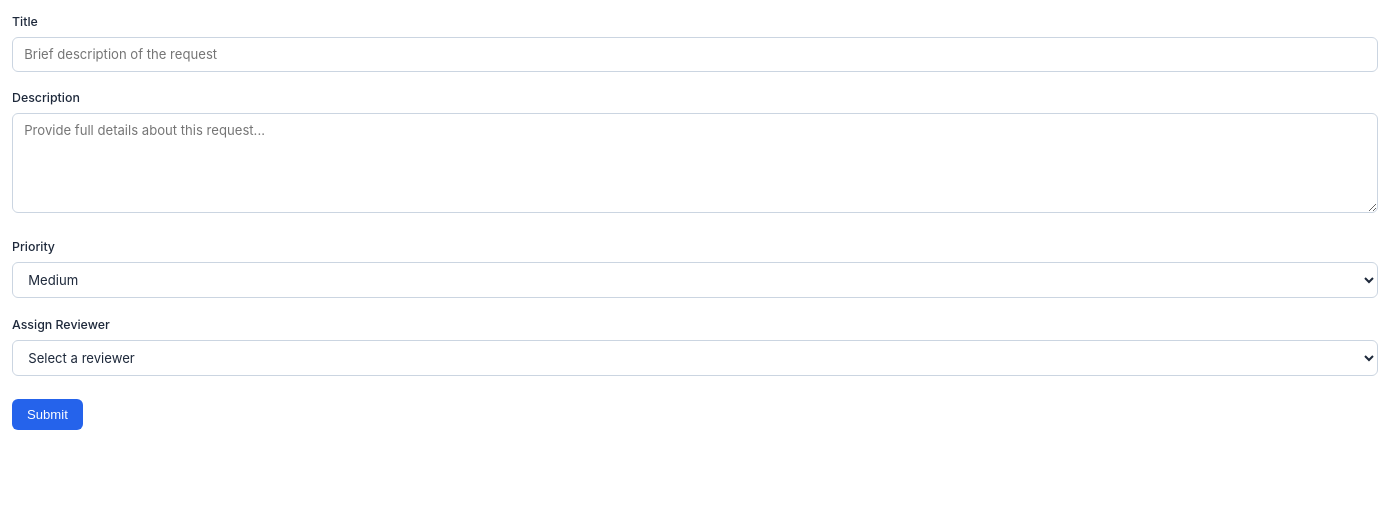
Scenario: RequestForm › shows an error message when submission fails
Type "Expense" into the field labelled "Title" at (695, 54), box [12, 37, 1378, 72]
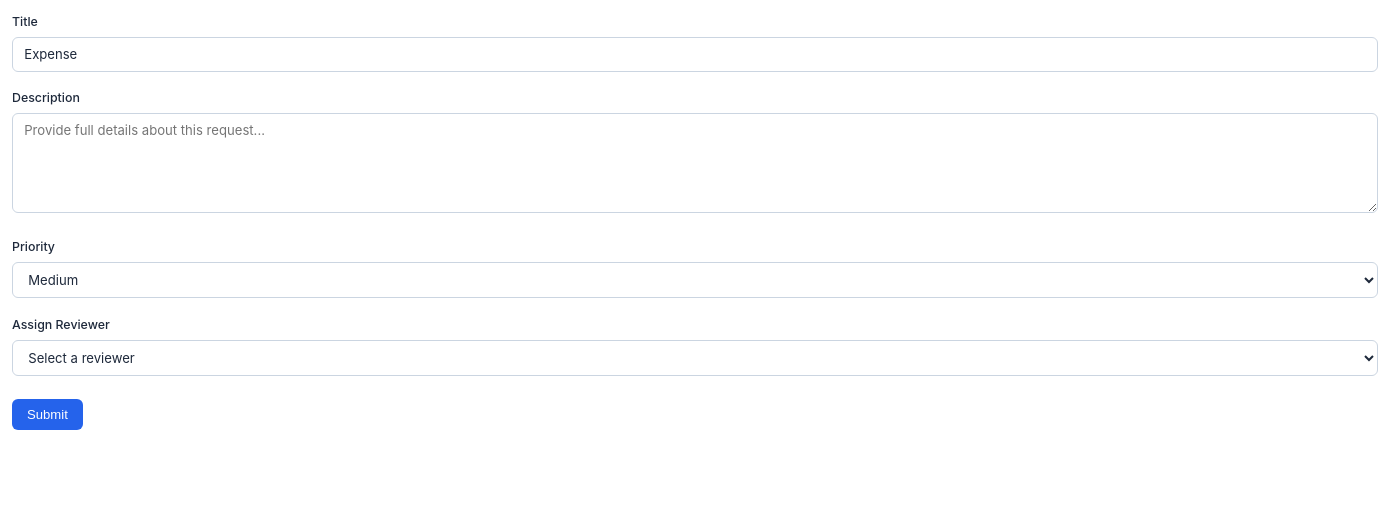
Type "Client dinner" into the text box labelled "Description" at (695, 163), box [12, 113, 1378, 213]
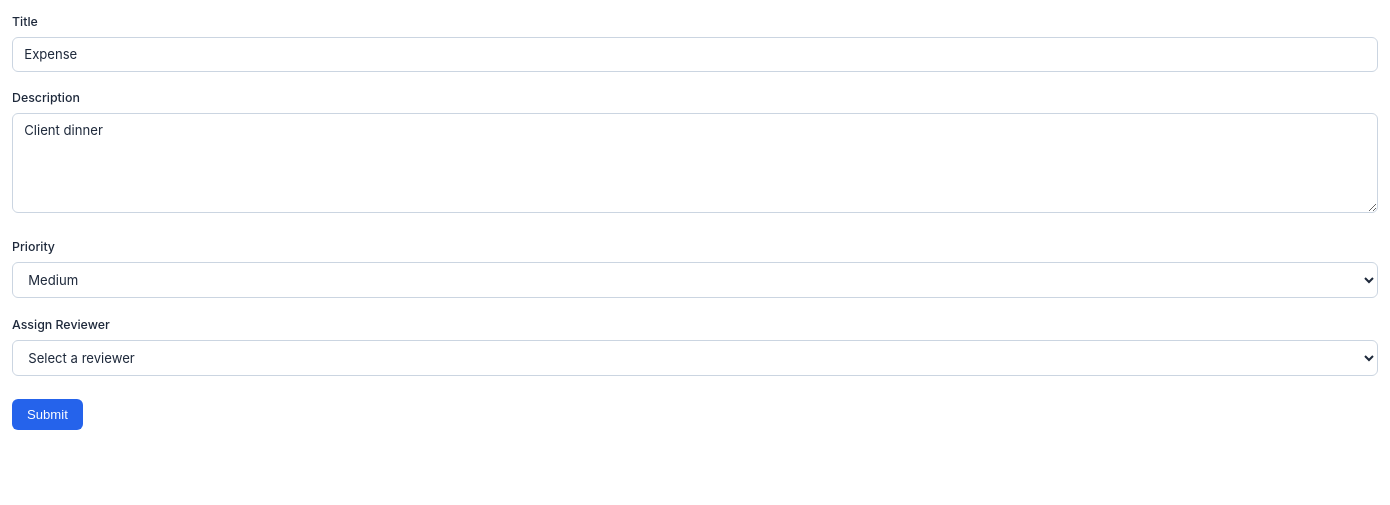
Select "Reviewer One" in the dropdown labelled "Assign Reviewer" at (695, 358), box [12, 340, 1378, 376]
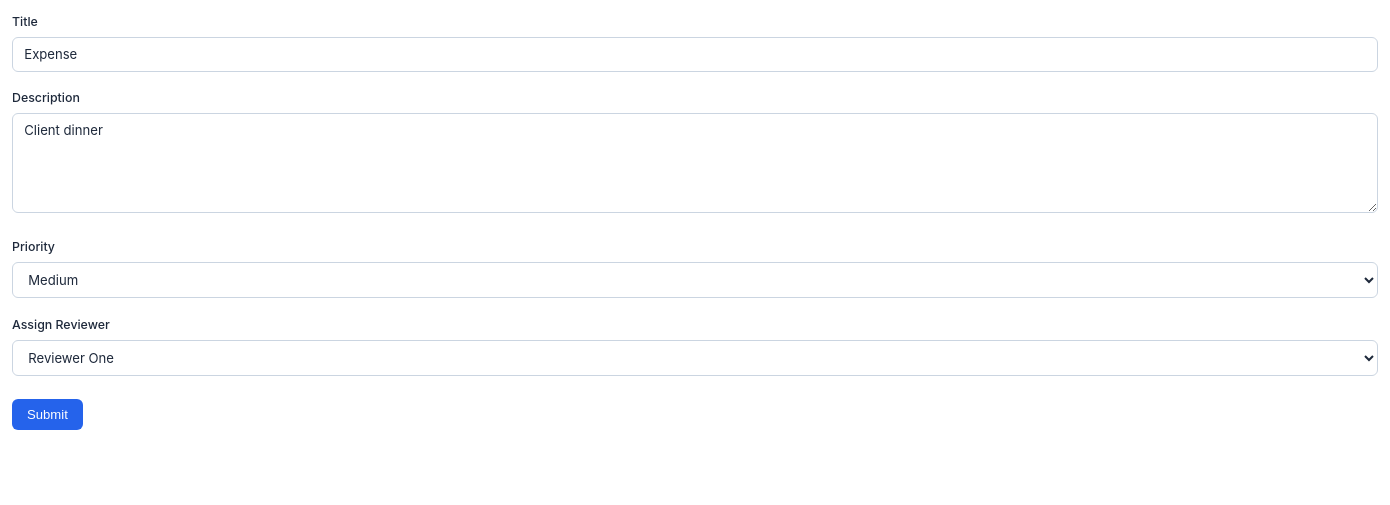
Click the button "Submit" at (47, 414), box [12, 399, 83, 430]
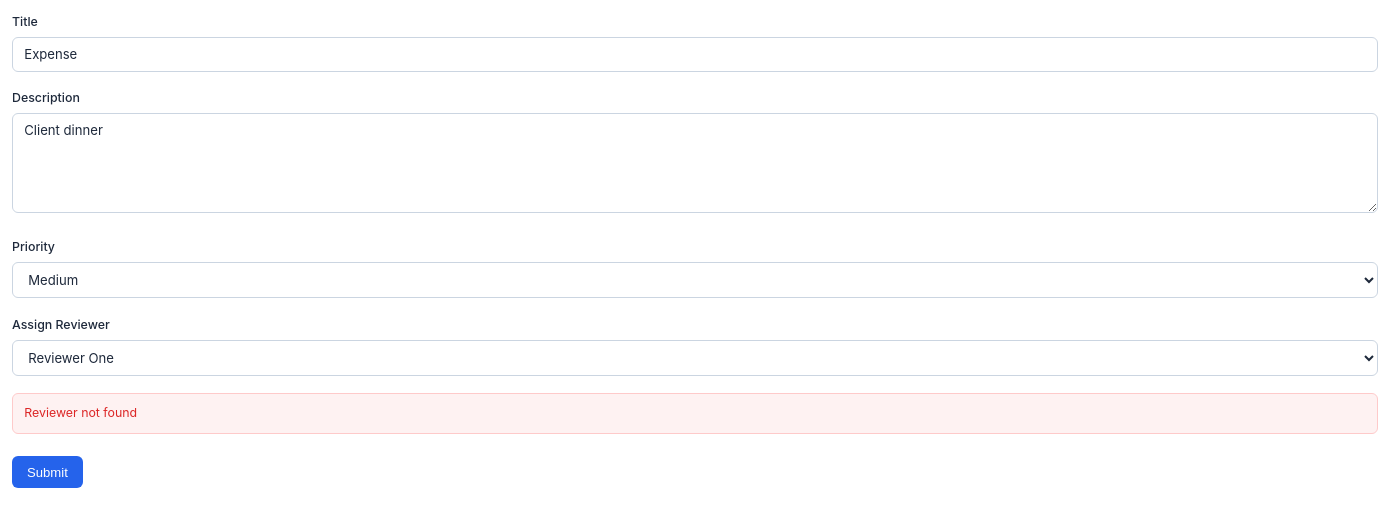
Check: the text "Reviewer not found" is shown, box [12, 393, 1378, 434]
